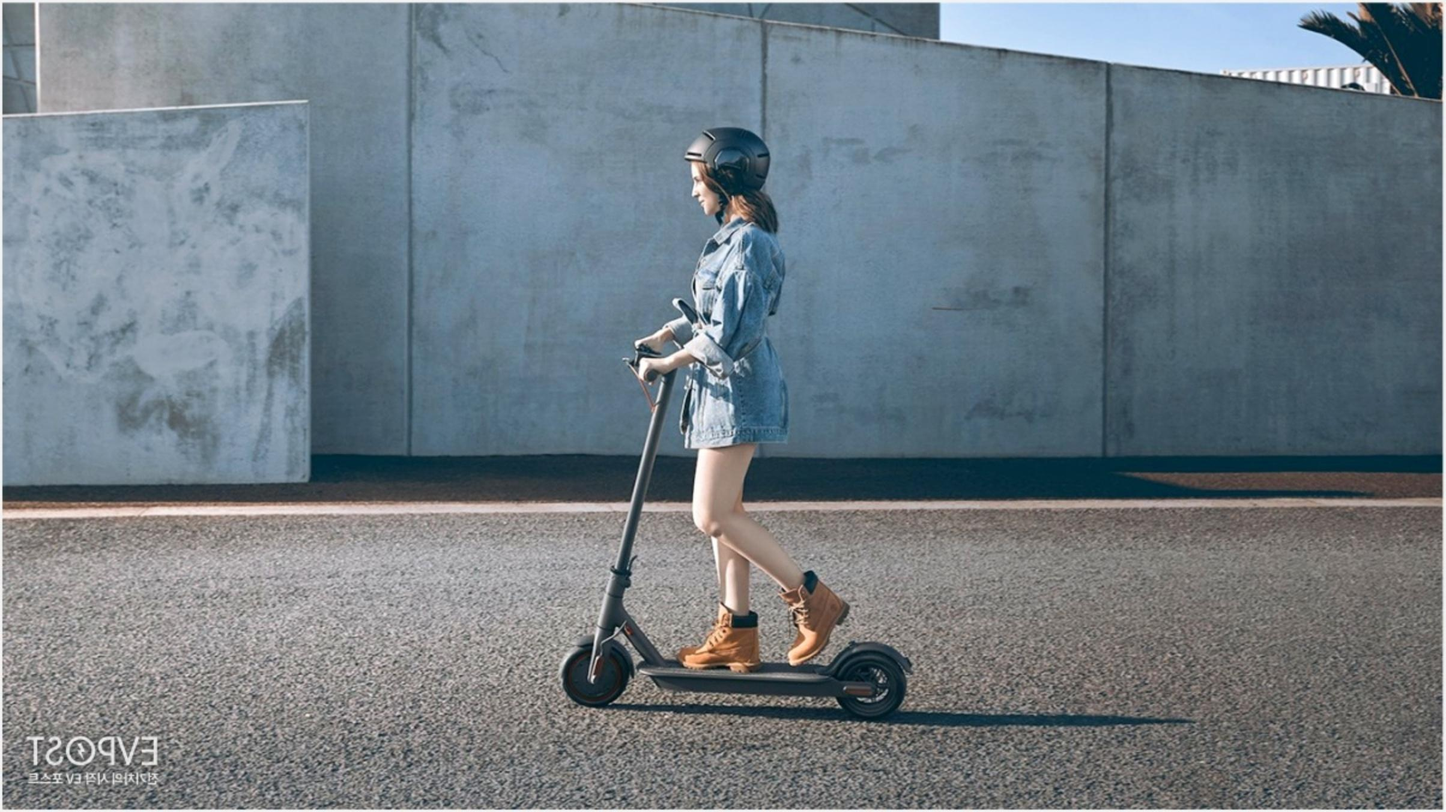helmet: (674, 127, 782, 241)
human: (643, 123, 830, 660)
kickboard: (561, 633, 912, 719)
